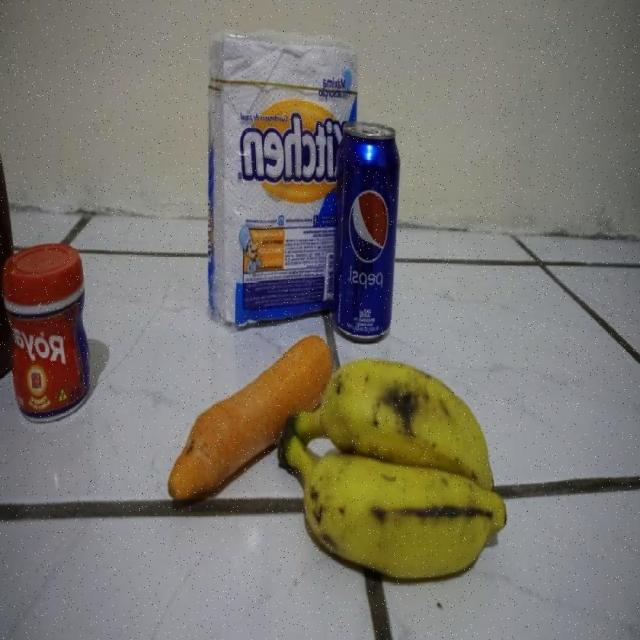Banana: (287, 361, 508, 584)
Carrot: (163, 354, 283, 516)
Napkin: (205, 31, 337, 325)
SodaCan: (335, 122, 401, 340)
Yeast: (4, 237, 100, 415)
